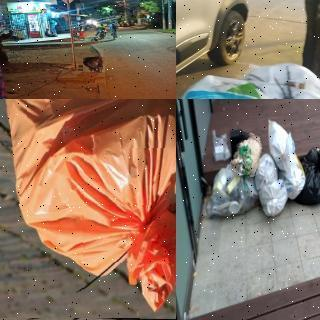Garbage: (0, 99, 176, 319), (176, 75, 298, 99), (206, 167, 259, 215), (266, 121, 297, 168), (230, 132, 263, 176), (300, 148, 320, 204), (258, 180, 288, 215), (255, 155, 278, 187), (83, 57, 105, 72), (91, 38, 98, 42)
